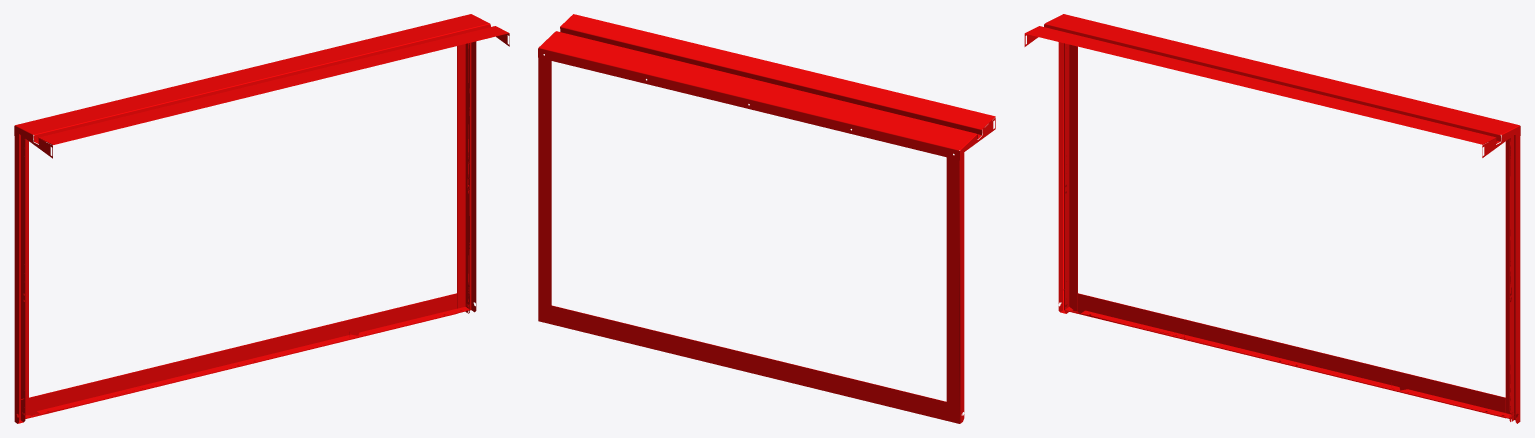
Rendered from hood.dae.
The picture shows the model from 3 angles, left to right: view 1: azimuth 30°, elevation 25°; view 2: azimuth 150°, elevation 25°; view 3: azimuth 330°, elevation 25°; orthographic projection. The views are drawn at different scales.
Parts seen in each view (by area): view 1: hood; view 2: hood; view 3: hood.
Boxes of the visible parts, x1,y1,x2,y2 form: hood: [14, 14, 509, 423]; hood: [538, 14, 995, 423]; hood: [1024, 14, 1520, 423].
Bounding box in the file's own units: 1.4 × 0.2067 × 0.8929.
